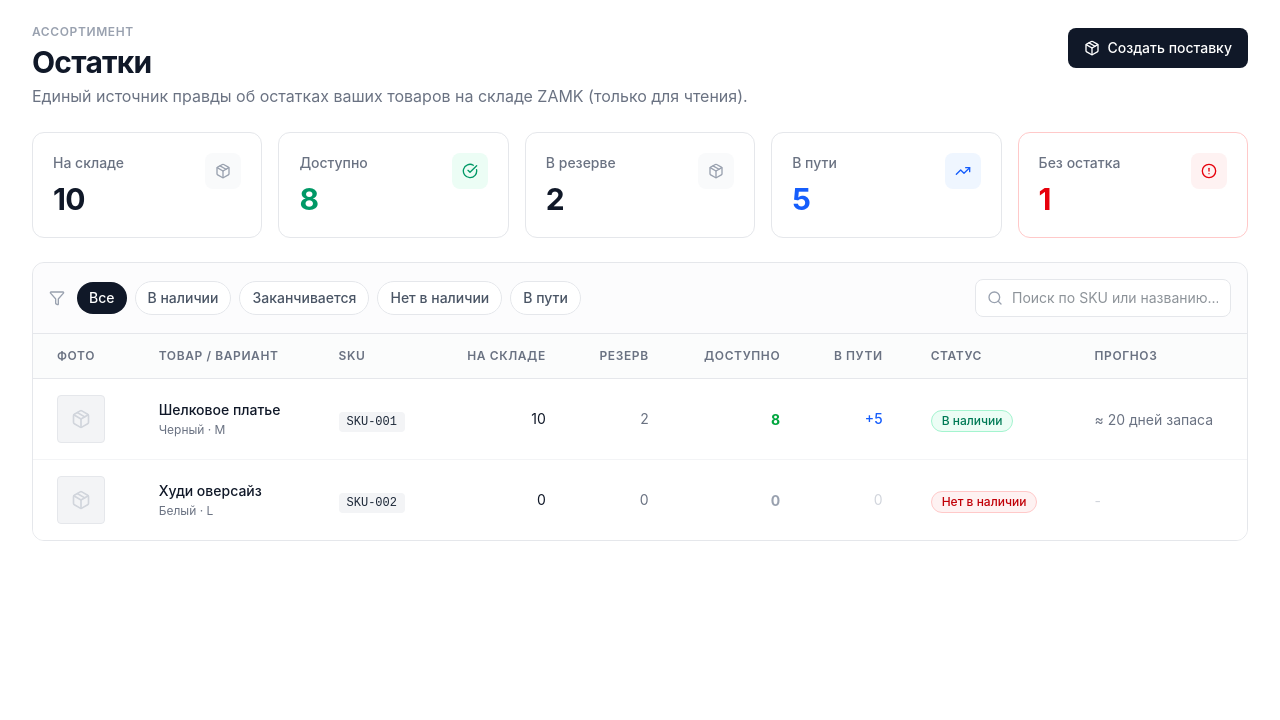
Test: SELLER R1.4A — Surface System Reference › 4. Inventory Reference Surface Vocabulary › Inventory adopts SellerKpiCard, SellerFilterBar, and SellerTableShell with working filters and search
Check: the heading "Остатки" is shown, box [32, 44, 152, 80]
Check: the element with test id "seller-table-shell" is shown, box [32, 262, 1248, 541]
# Filter by "Нет в наличии"
Click the button "Нет в наличии" at (440, 298), box [378, 281, 502, 315]
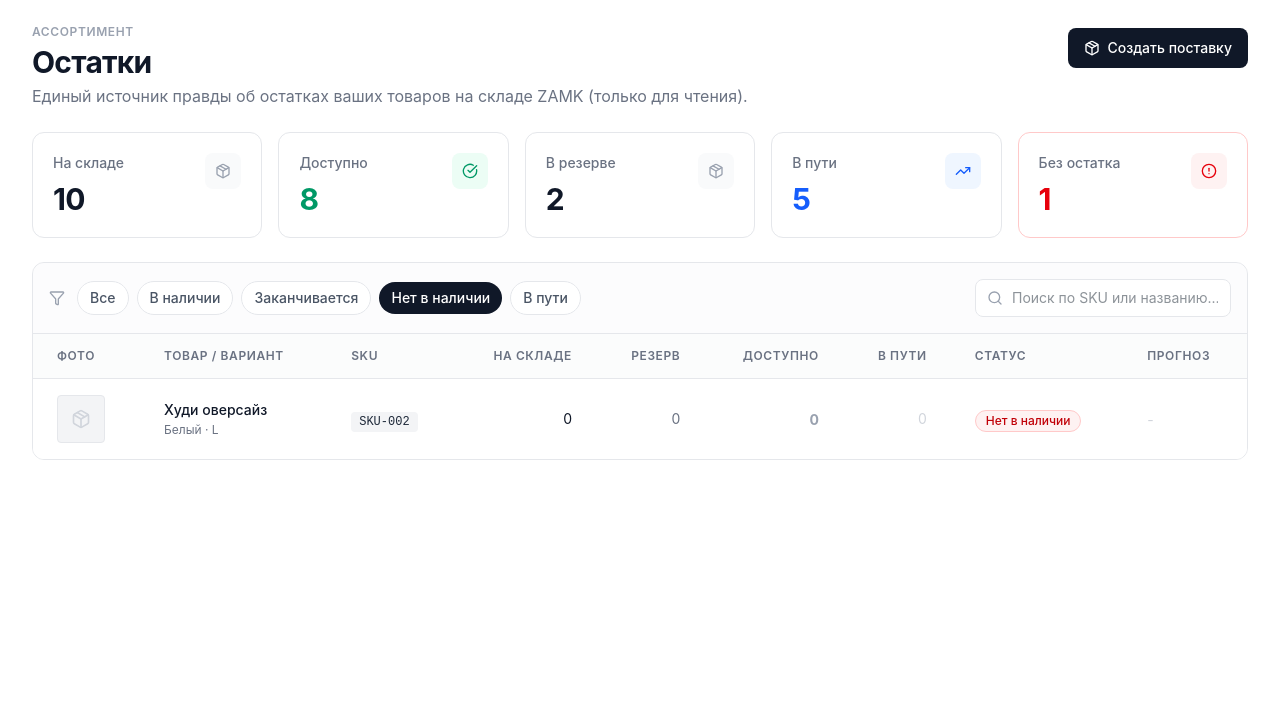
Check: the text "Худи оверсайз" is shown, box [164, 401, 267, 418]
Check: the text "Шелковое платье" is gone
# Filter back to "Все"
Click the button "Все" at (103, 298), box [77, 281, 128, 315]
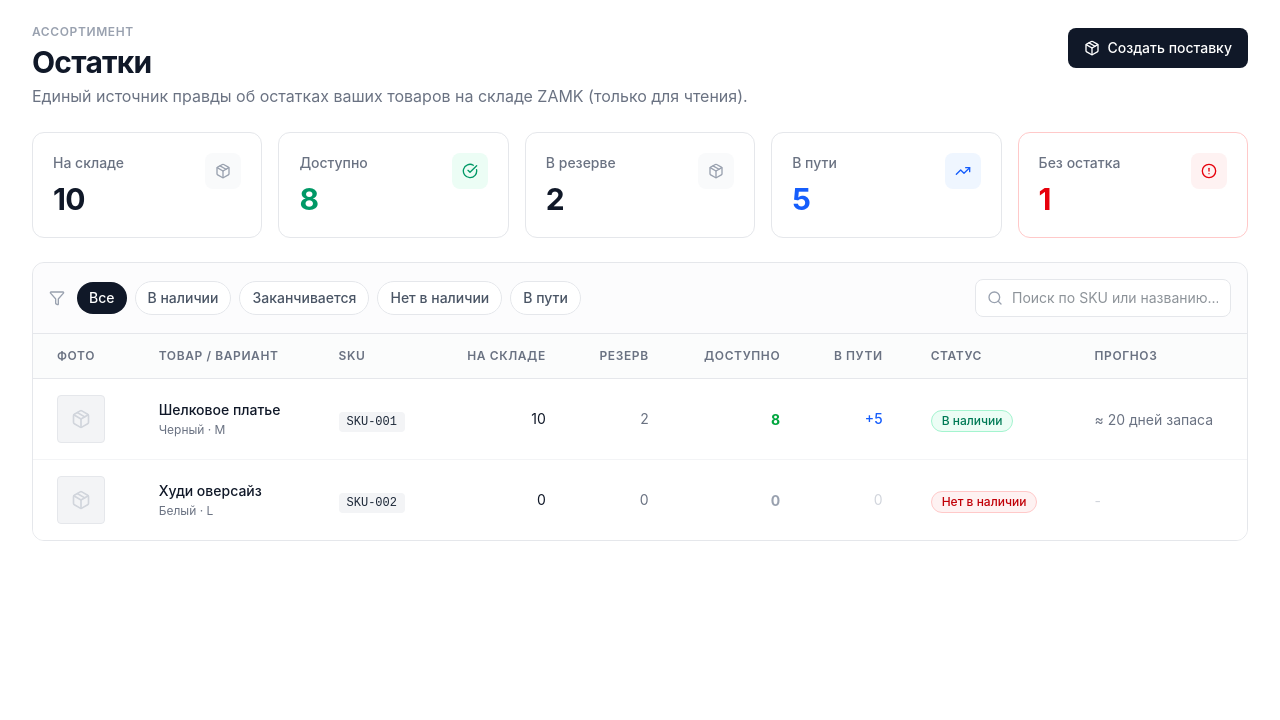
Check: the text "Шелковое платье" is shown, box [159, 400, 291, 420]
# Search interaction
Type "Худи" into the field with placeholder "Поиск по SKU или названию..." at (1103, 298), box [975, 279, 1231, 317]
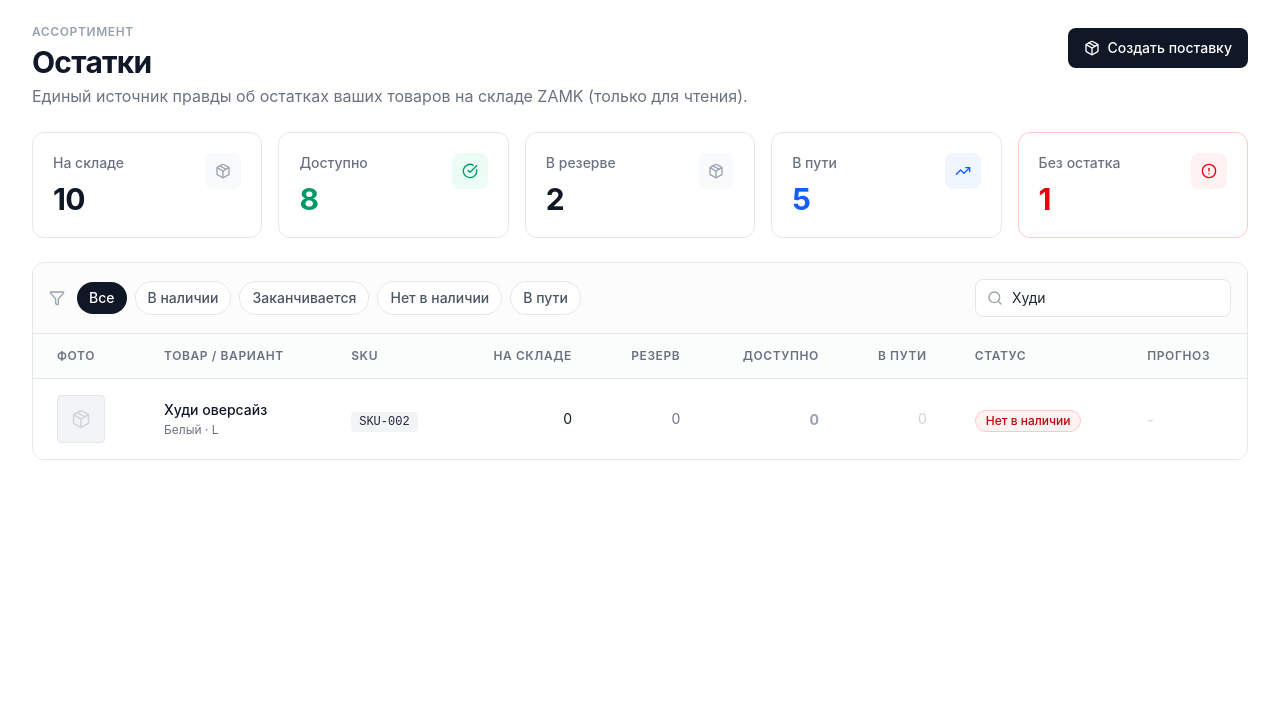
Check: the text "Худи оверсайз" is shown, box [164, 401, 267, 418]
Check: the text "Шелковое платье" is gone
